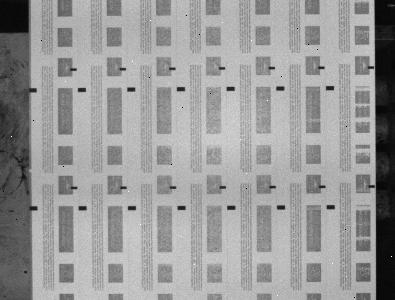qblock: (226, 86, 235, 91), (227, 205, 236, 210), (177, 205, 186, 210), (276, 86, 284, 91), (127, 87, 136, 91), (78, 206, 87, 210), (326, 205, 335, 209), (29, 88, 37, 92), (30, 206, 38, 210), (78, 88, 86, 92), (326, 86, 334, 90), (177, 87, 185, 91), (277, 205, 285, 209), (128, 206, 136, 210)
smallqblock: (219, 66, 225, 70), (70, 68, 77, 71), (119, 67, 126, 70), (268, 66, 275, 69), (169, 67, 176, 70), (318, 66, 325, 69), (120, 186, 127, 189), (170, 186, 177, 189), (269, 185, 276, 188), (220, 186, 227, 189), (368, 185, 375, 188), (71, 186, 77, 189), (368, 66, 374, 69), (319, 185, 325, 188)
